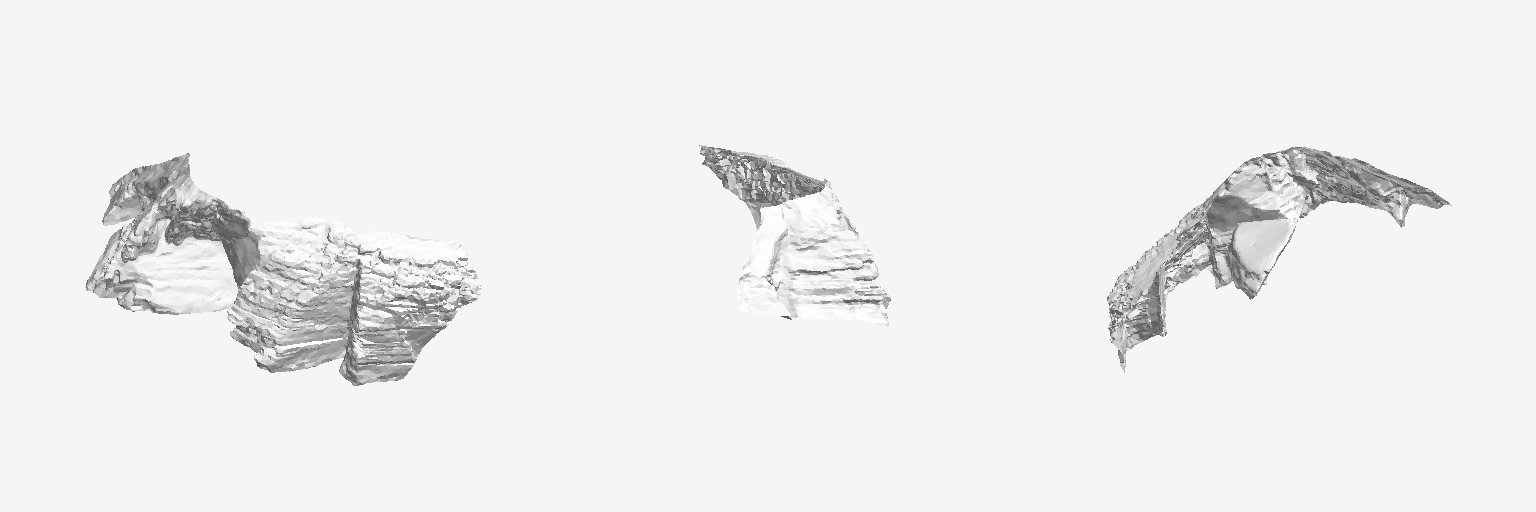
File: CoastScan.obj
The picture shows the model from 3 angles: view 1: azimuth 30°, elevation 25°; view 2: azimuth 150°, elevation 25°; view 3: azimuth 270°, elevation 25°; orthographic projection.
Bounding box in the file's own units: 15.93 × 8.74 × 16.44.